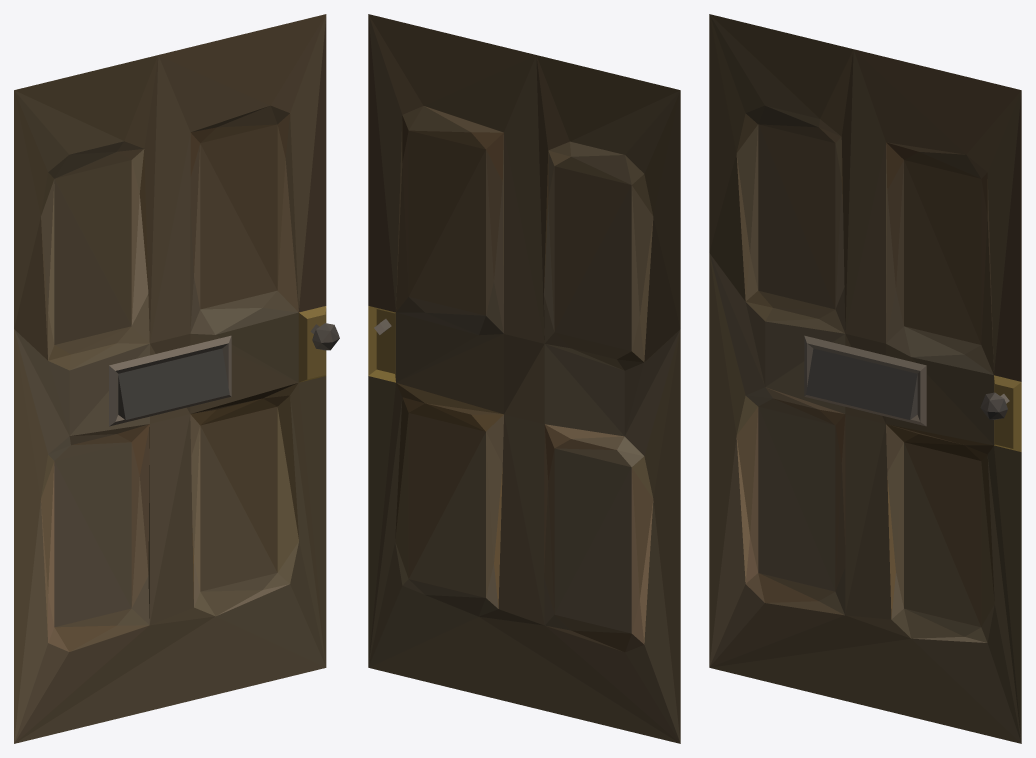
Rendered from DoorE.fbx.
3 renders of one model, left to right at view 1: azimuth 30°, elevation 25°; view 2: azimuth 150°, elevation 25°; view 3: azimuth 330°, elevation 25°, orthographic.
Visible parts, largest first — view 1: DoorE; view 2: DoorE; view 3: DoorE.
Part boxes in pixels (left/top/right/bottom): DoorE: left=14, top=14, right=339, bottom=743; DoorE: left=368, top=14, right=680, bottom=743; DoorE: left=709, top=14, right=1021, bottom=743.
Bounding box in the file's own units: 120 × 240 × 16.37.
